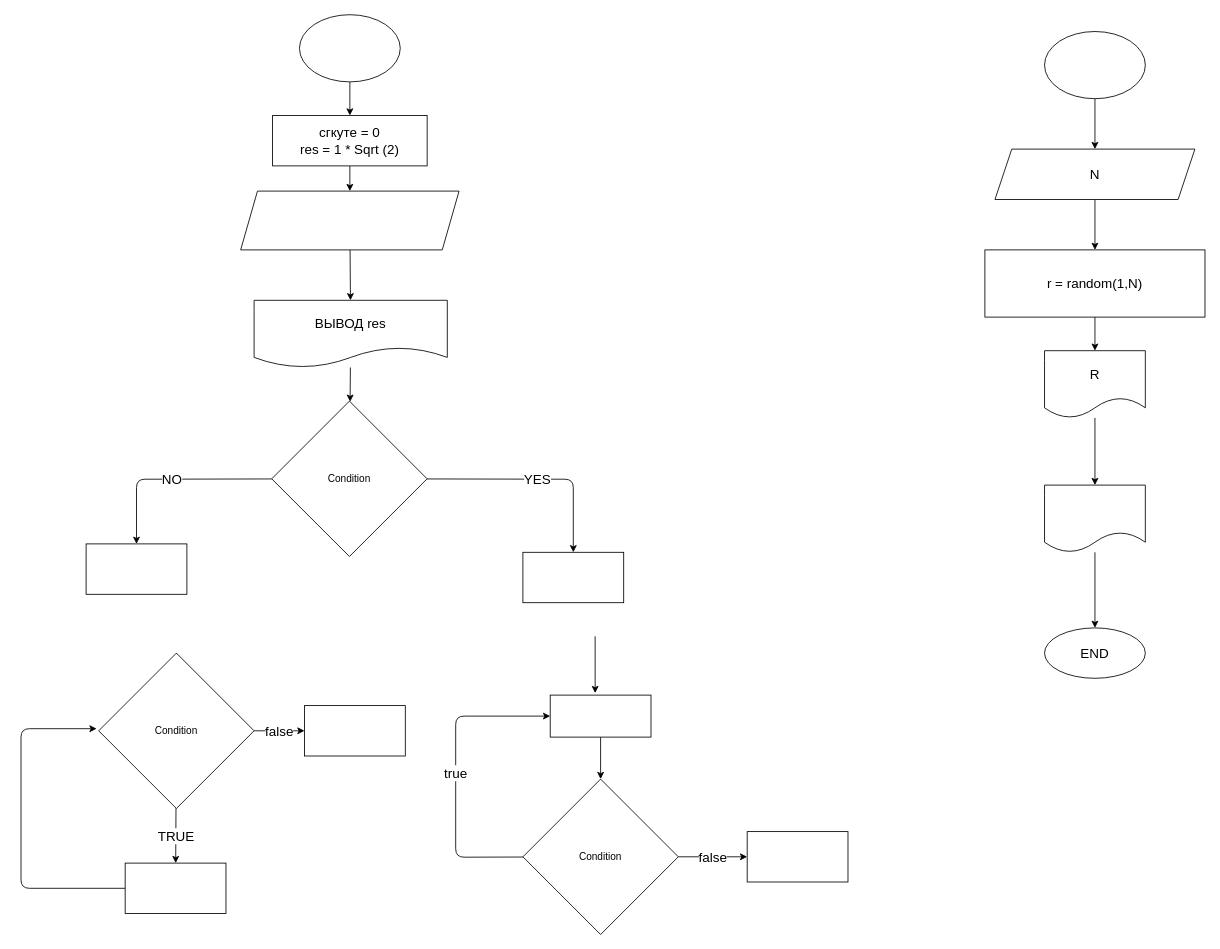
Some shapes in this 1220 by 949 pixel diagram are drawn without their labels. The shapes that lost their labels are listed below. From the top down, each one's centre as x and y in pixels, then its label:
At point (349, 48): "START END".
At point (1094, 65): "START".
At point (349, 220): "ВВОД count".
At point (1094, 518): "R*R".
